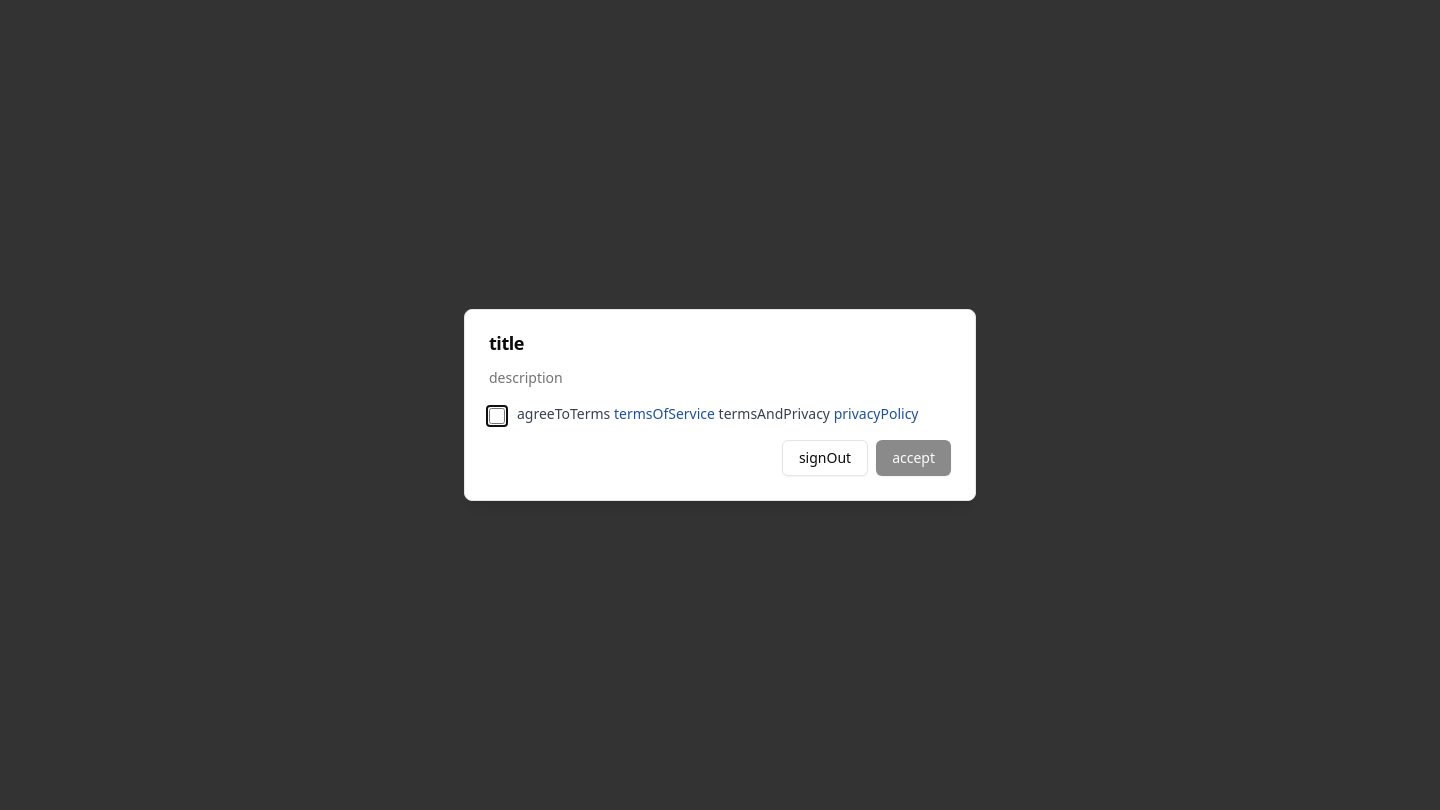
TermsReacceptanceDialog › offers a reload when the version went stale (409)
The image size is (1440, 810).
Step 1. Click the checkbox labelled "agreeToTerms termsOfService termsAndPrivacy privacyPolicy" → coordinates (497, 416), box [489, 408, 505, 424]
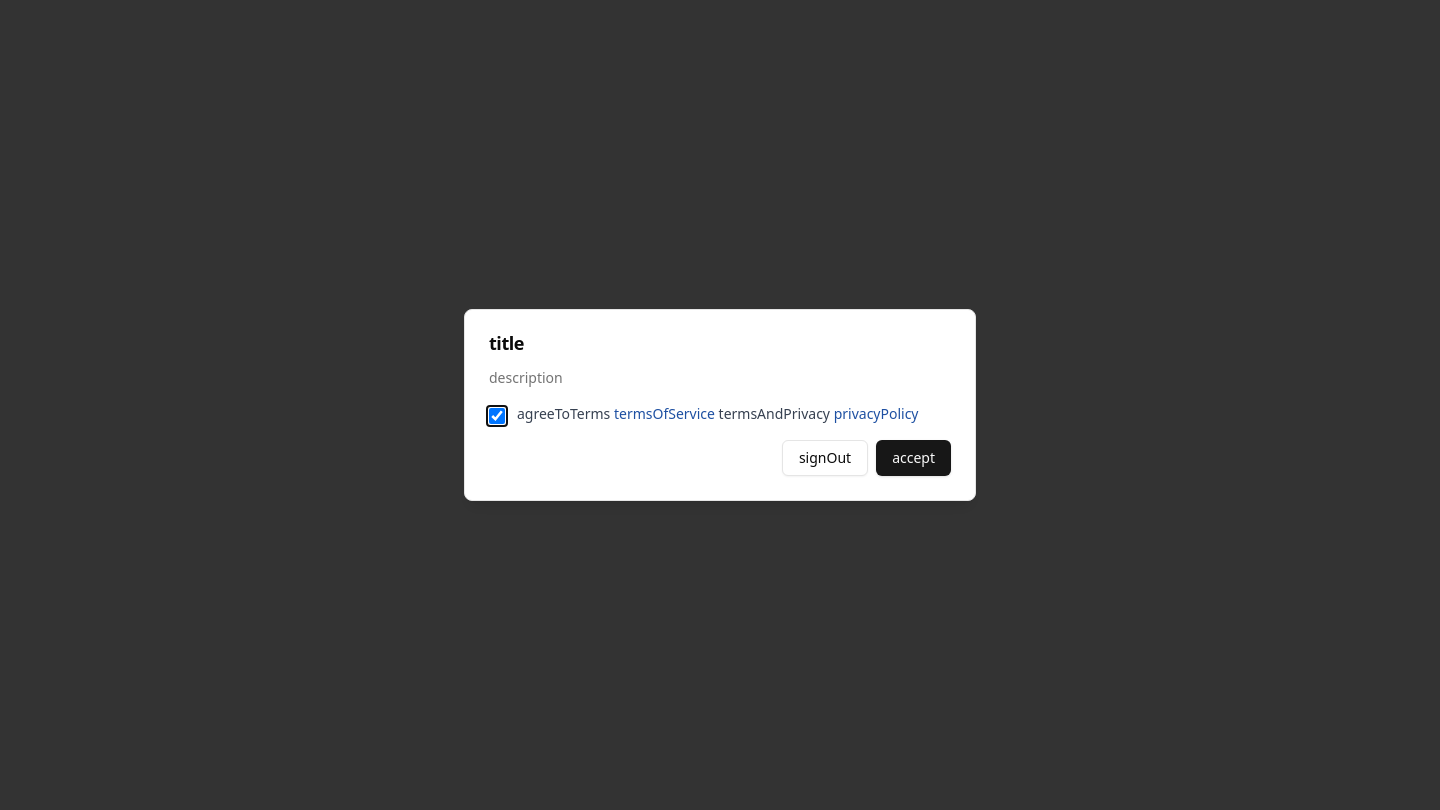
Step 2. Click the button "accept" → coordinates (914, 458), box [876, 440, 951, 476]
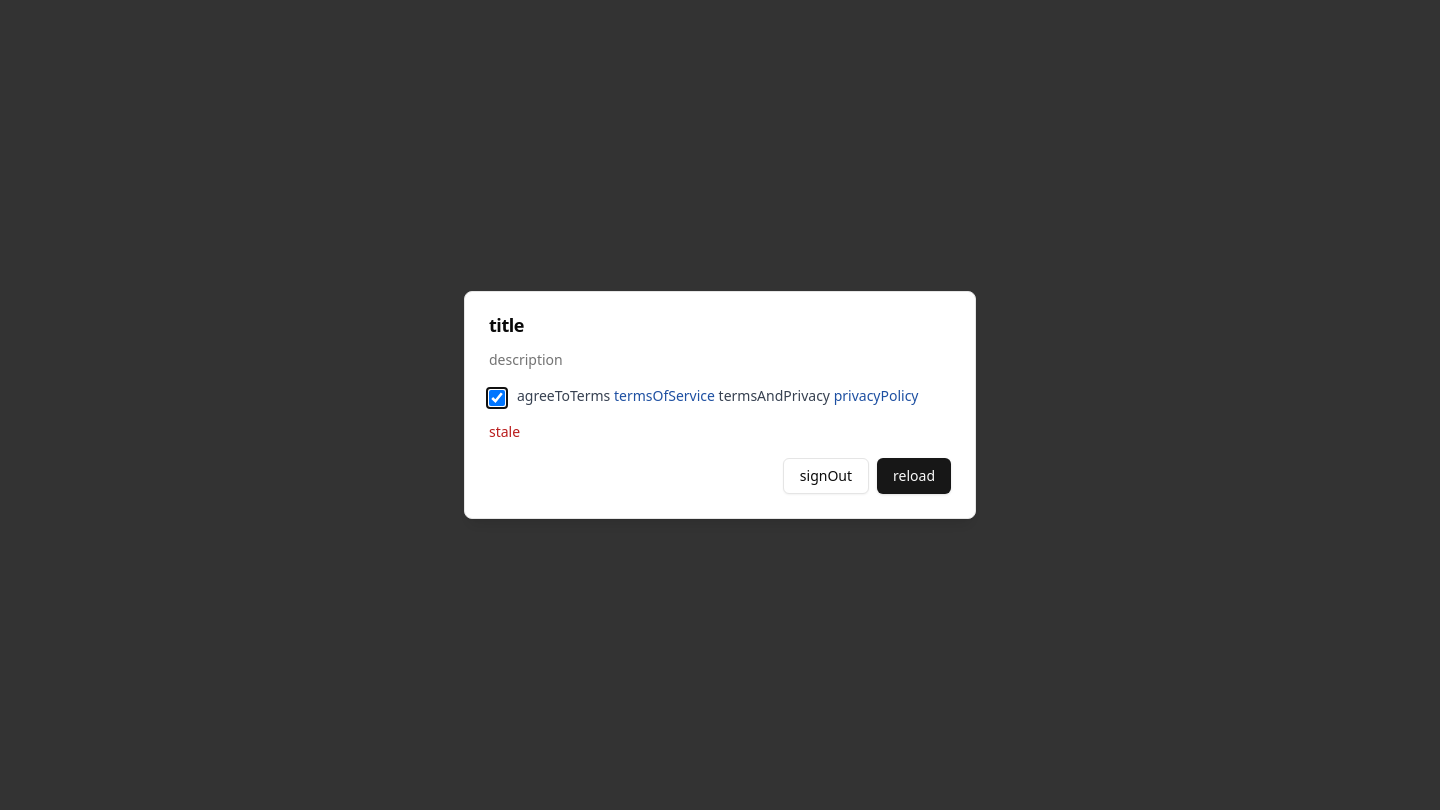
Expected: the message reads "stale", [489, 422, 520, 441]
Expected: the button "reload" is shown, [877, 458, 951, 494]
